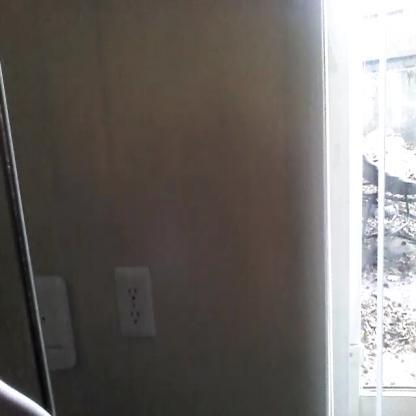OUTLET: (112, 265, 156, 339)
